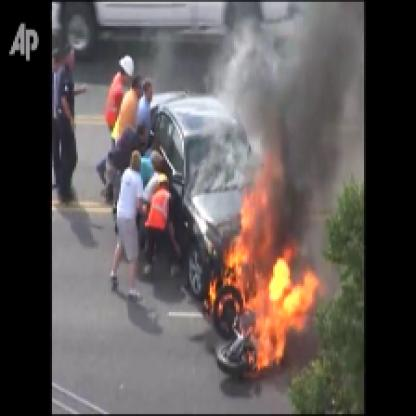Fire: (197, 152, 325, 379)
Smoke: (266, 2, 360, 193)
